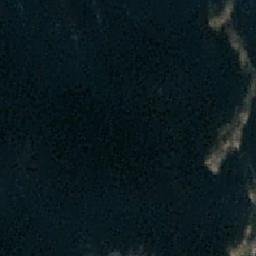debris: (205, 1, 236, 30), (203, 144, 228, 174), (226, 109, 252, 131), (220, 127, 244, 149), (225, 240, 256, 256), (239, 225, 256, 251), (234, 50, 256, 68), (225, 31, 242, 48), (243, 92, 256, 110), (247, 69, 256, 94), (248, 187, 256, 205), (107, 247, 120, 256)
